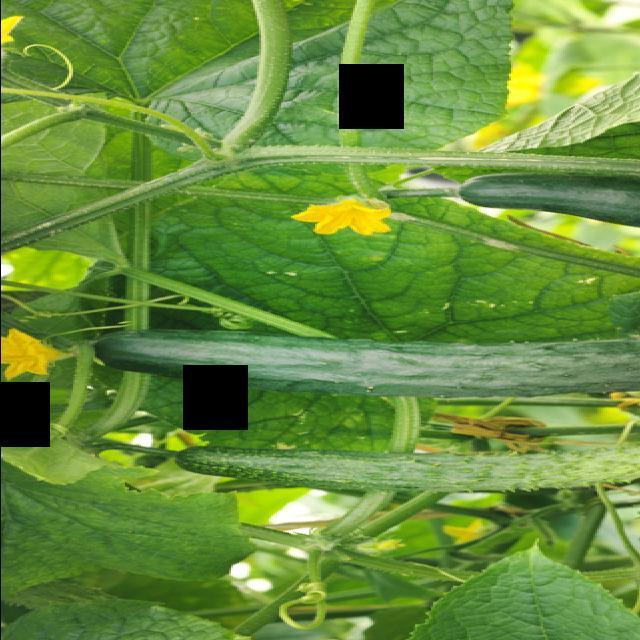cucumber: (80, 313, 640, 407), (158, 428, 640, 508), (416, 168, 640, 234)
